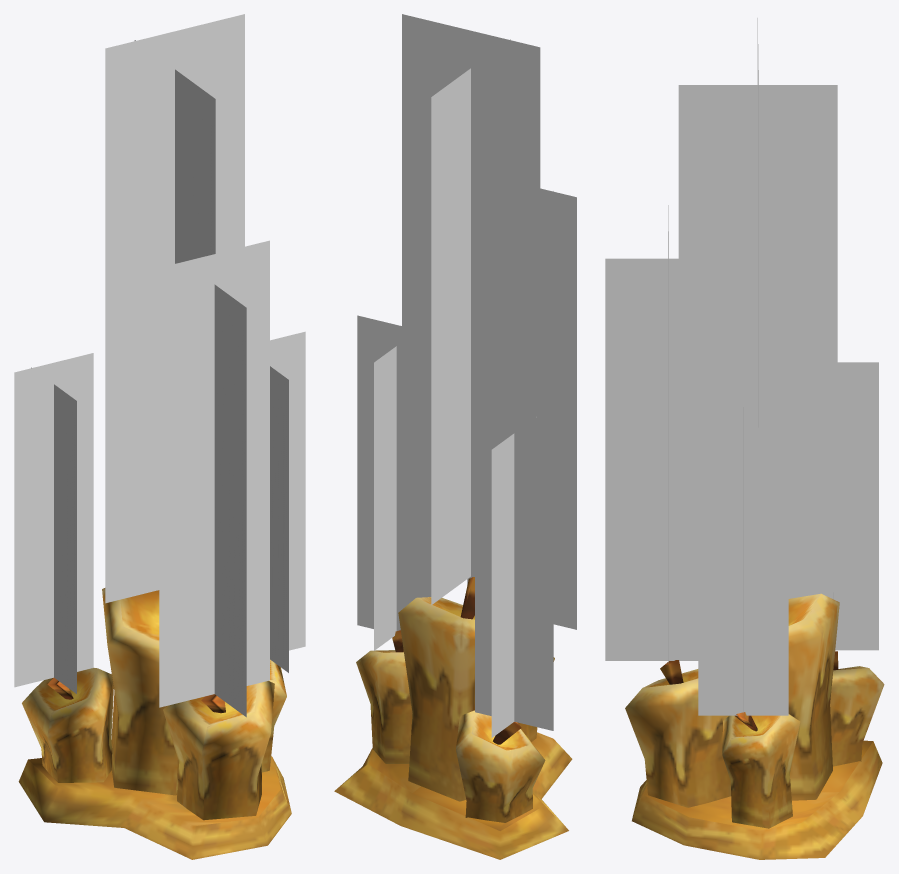
Rendered from crypt_candles01.fbx.
3 renders of one model, left to right at view 1: azimuth 30°, elevation 25°; view 2: azimuth 150°, elevation 25°; view 3: azimuth 270°, elevation 25°, orthographic.
Parts seen in each view (by area): view 1: crypt_candles01-0; view 2: crypt_candles01-0; view 3: crypt_candles01-0.
Part boxes in pixels (bbox=[...]): crypt_candles01-0: bbox=[14, 14, 305, 859]; crypt_candles01-0: bbox=[334, 14, 576, 859]; crypt_candles01-0: bbox=[605, 18, 884, 859].
Size of the model in its own units: 0.5146 by 1.56 by 0.5164.
